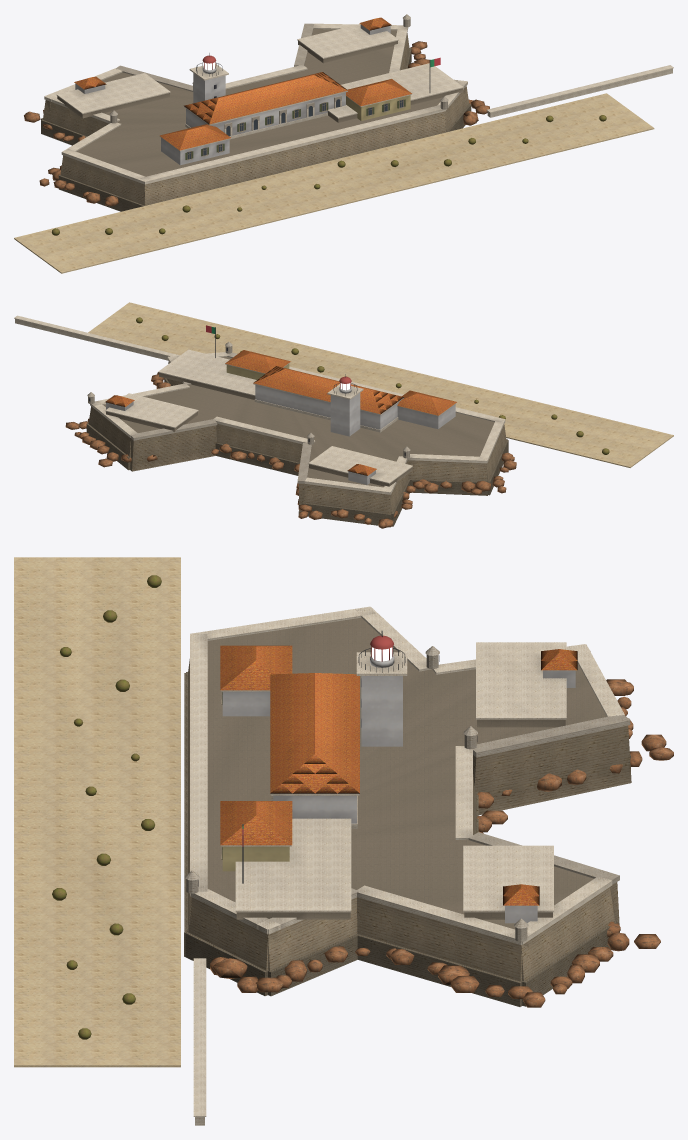
Rendered from carcavelos.gltf.
3 renders of one model, top to bottom at view 1: azimuth 30°, elevation 25°; view 2: azimuth 150°, elevation 25°; view 3: azimuth 270°, elevation 25°, orthographic. The views are drawn at different scales.
Visible parts, largest first — view 1: carcavelos-sand, carcavelos-fort-coping, carcavelos-fort-deck, carcavelos-fort-wall, carcavelos-roof-tiles, carcavelos-whitewash, carcavelos-fort-foot, carcavelos-rocks, carcavelos-house-yellow, carcavelos-box-leaves, carcavelos-window-glass, carcavelos-travertine-trim; view 2: carcavelos-sand, carcavelos-fort-coping, carcavelos-fort-deck, carcavelos-fort-wall, carcavelos-roof-tiles, carcavelos-whitewash, carcavelos-rocks, carcavelos-fort-foot, carcavelos-box-leaves; view 3: carcavelos-sand, carcavelos-fort-coping, carcavelos-fort-deck, carcavelos-fort-wall, carcavelos-roof-tiles, carcavelos-rocks, carcavelos-fort-foot, carcavelos-whitewash, carcavelos-box-leaves, carcavelos-house-yellow.
Part boxes in pixels (<box>): carcavelos-sand: <box>14,93,654,273</box>; carcavelos-fort-coping: <box>44,14,673,184</box>; carcavelos-fort-deck: <box>57,29,462,176</box>; carcavelos-fort-wall: <box>43,33,469,205</box>; carcavelos-roof-tiles: <box>74,17,411,150</box>; carcavelos-whitewash: <box>75,24,390,165</box>; carcavelos-fort-foot: <box>41,48,471,211</box>; carcavelos-rocks: <box>24,41,489,206</box>; carcavelos-house-yellow: <box>346,95,410,120</box>; carcavelos-box-leaves: <box>51,115,606,235</box>; carcavelos-window-glass: <box>187,99,403,159</box>; carcavelos-travertine-trim: <box>187,99,404,160</box>; carcavelos-sand: <box>88,302,673,467</box>; carcavelos-fort-coping: <box>14,315,505,494</box>; carcavelos-fort-deck: <box>103,357,494,487</box>; carcavelos-fort-wall: <box>88,361,506,514</box>; carcavelos-roof-tiles: <box>105,350,456,475</box>; carcavelos-whitewash: <box>106,385,455,484</box>; carcavelos-rocks: <box>65,372,516,528</box>; carcavelos-fort-foot: <box>86,378,508,527</box>; carcavelos-box-leaves: <box>136,317,609,454</box>; carcavelos-sand: <box>14,557,180,1067</box>; carcavelos-fort-coping: <box>185,606,630,1125</box>; carcavelos-fort-deck: <box>207,617,606,929</box>; carcavelos-fort-wall: <box>187,659,631,981</box>; carcavelos-roof-tiles: <box>220,645,577,905</box>; carcavelos-rocks: <box>210,679,673,1007</box>; carcavelos-fort-foot: <box>184,672,630,1006</box>; carcavelos-whitewash: <box>222,656,575,923</box>; carcavelos-box-leaves: <box>52,575,161,1039</box>; carcavelos-house-yellow: <box>222,846,289,871</box>.
Size of the model in its own units: 213 by 29.58 by 104.
19 materials, 12 textured.
